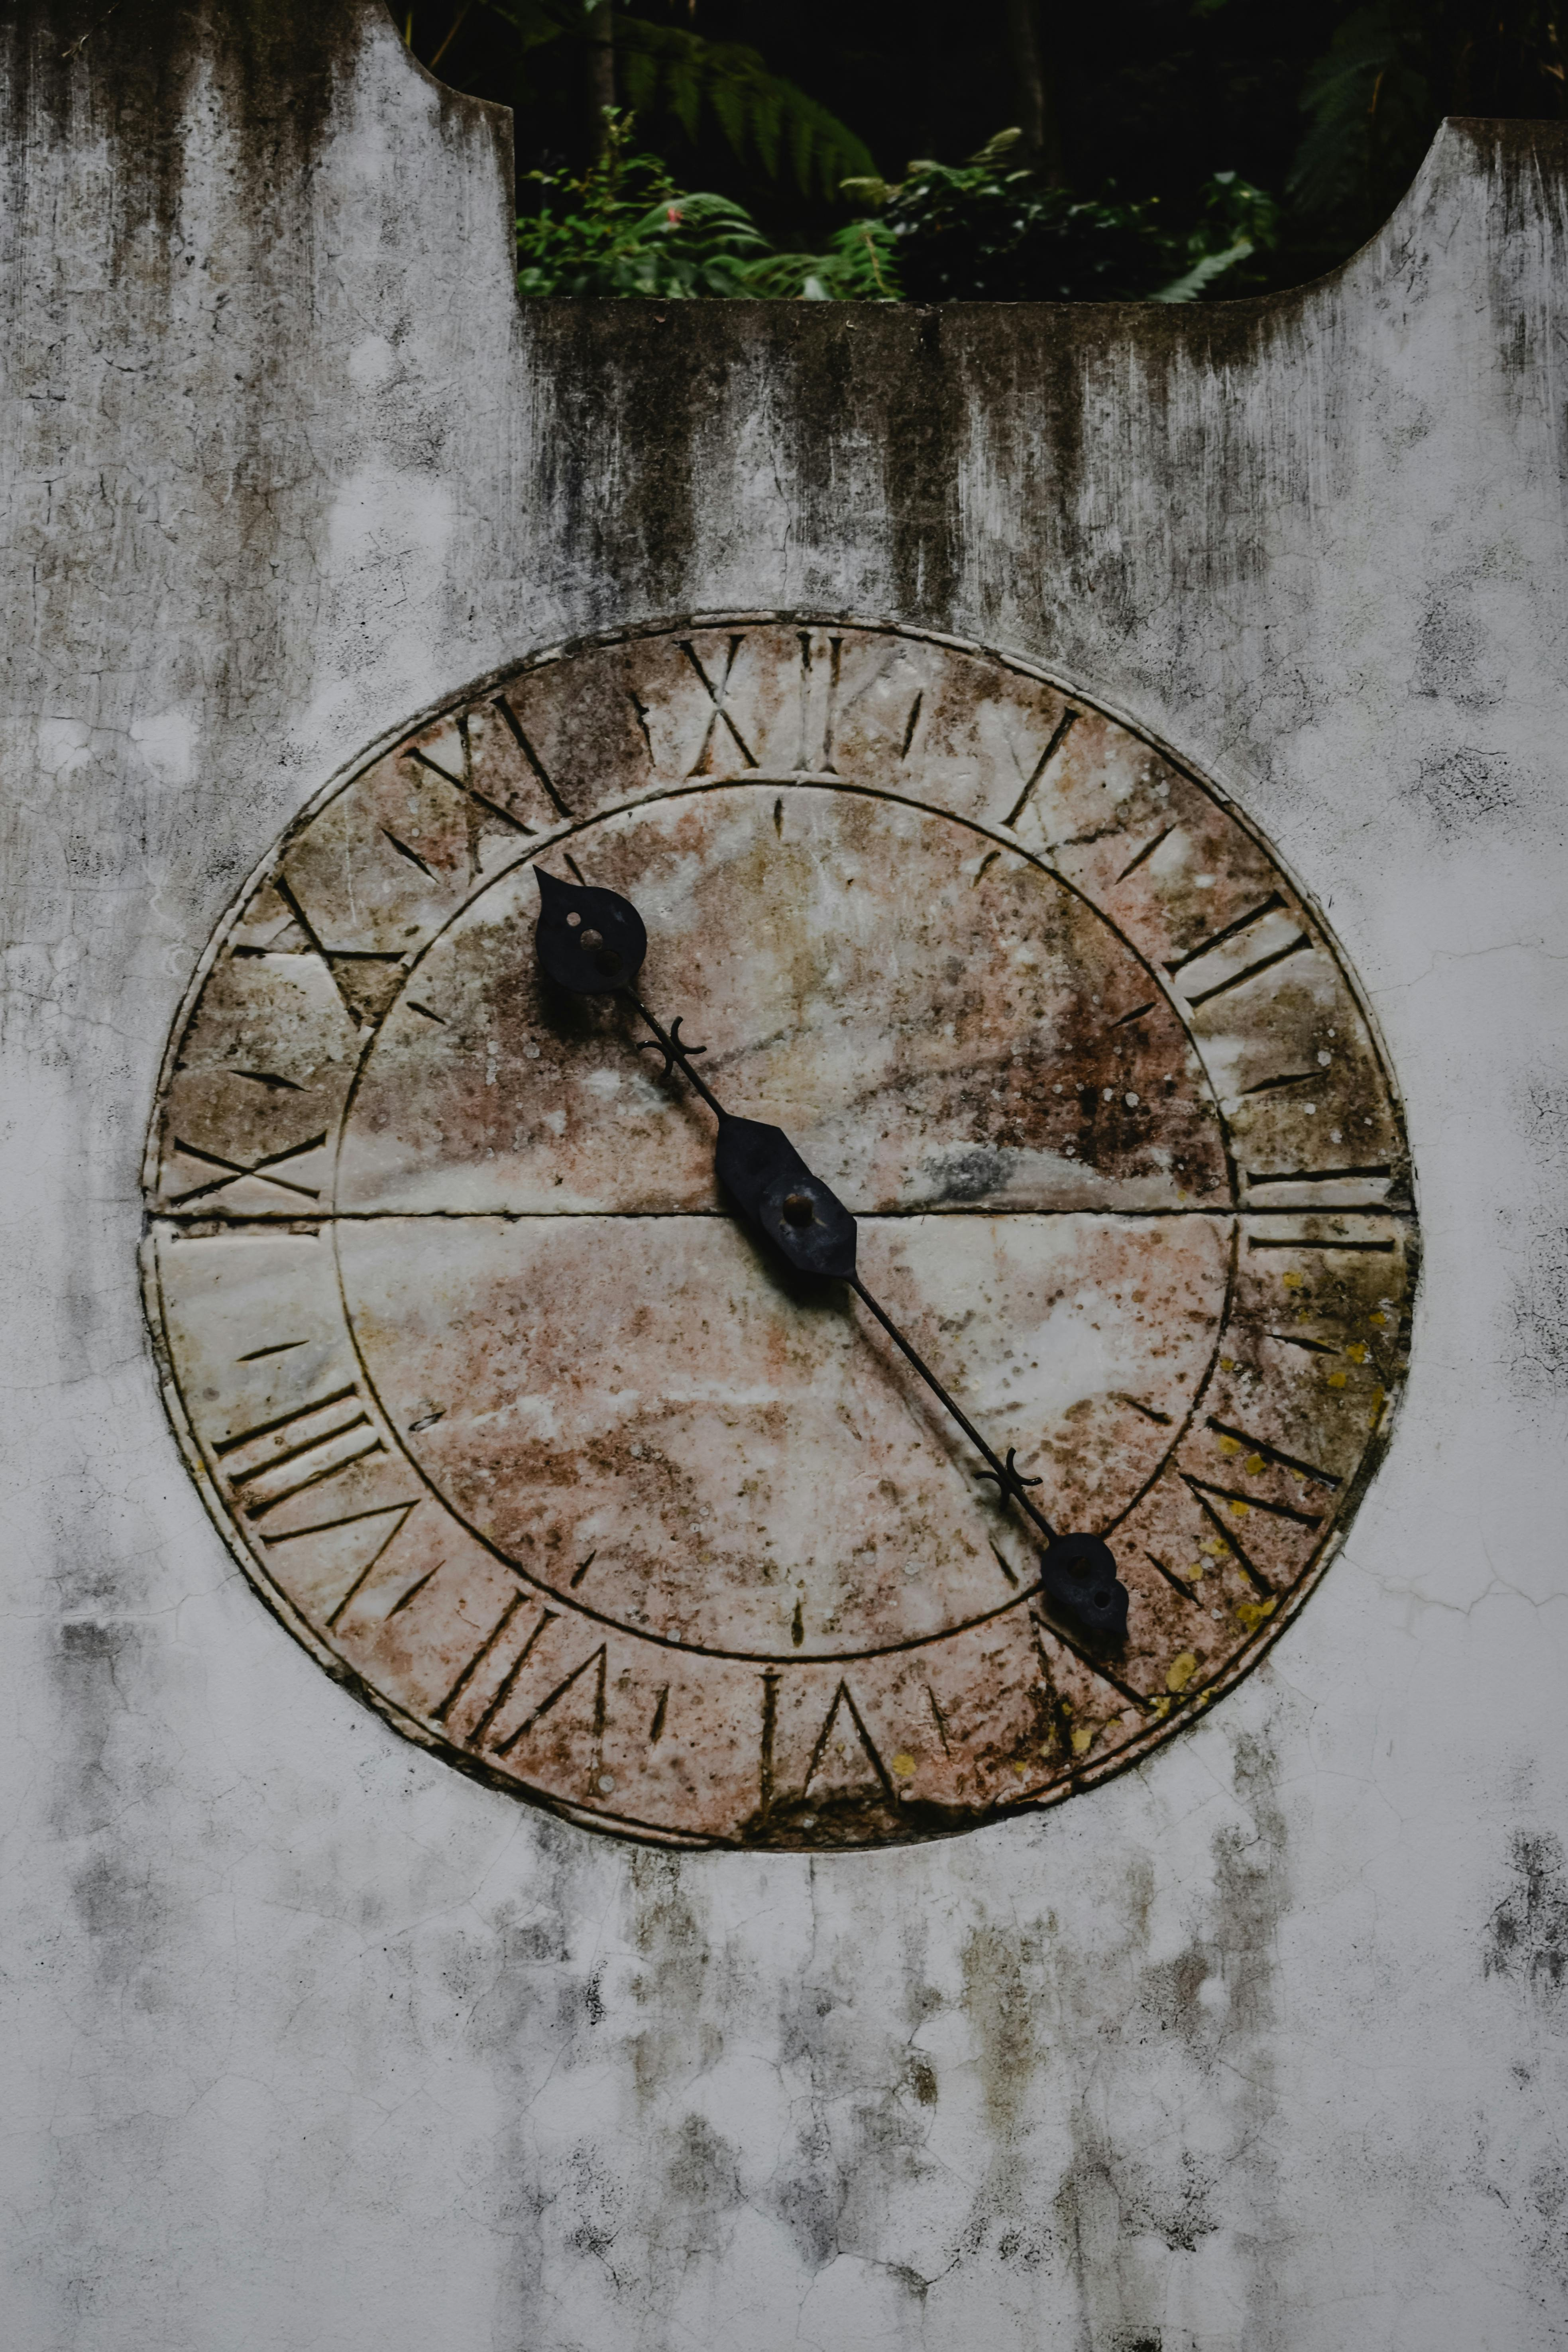clock: (142, 527, 1417, 1829)
